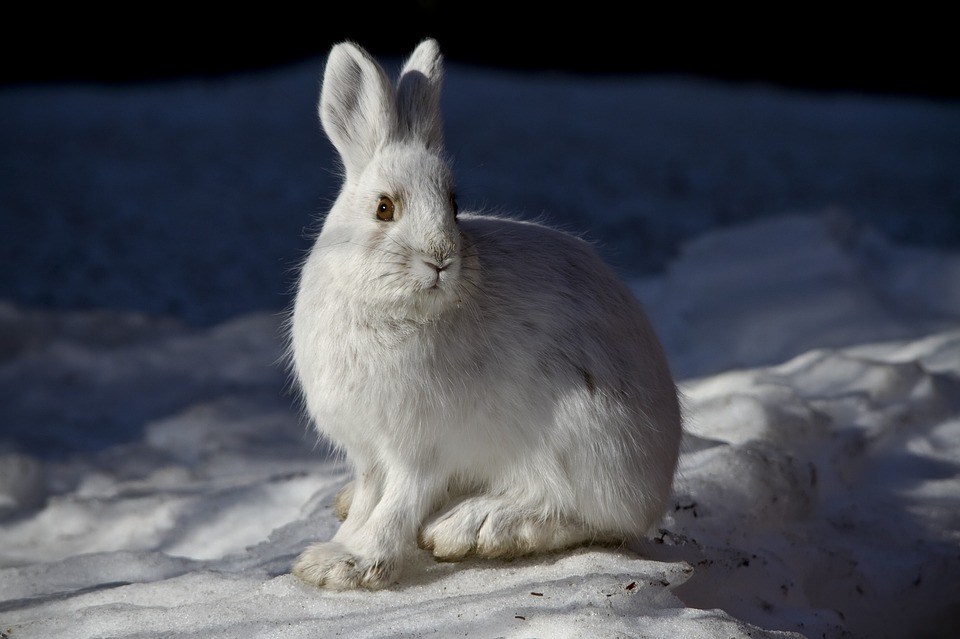bunny: (274, 33, 694, 601)
